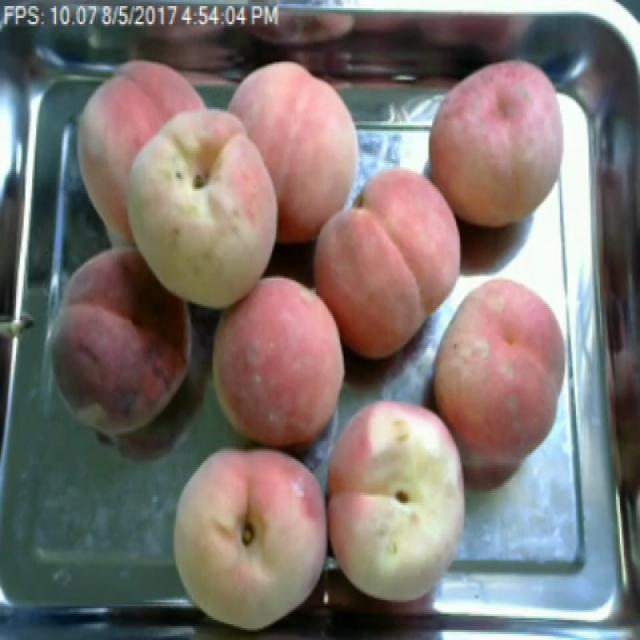Fruit: (114, 95, 290, 320), (300, 157, 475, 372), (31, 235, 205, 451), (419, 266, 581, 497), (326, 388, 482, 612), (163, 433, 329, 638), (200, 266, 361, 463), (216, 54, 372, 252), (418, 45, 578, 238)
